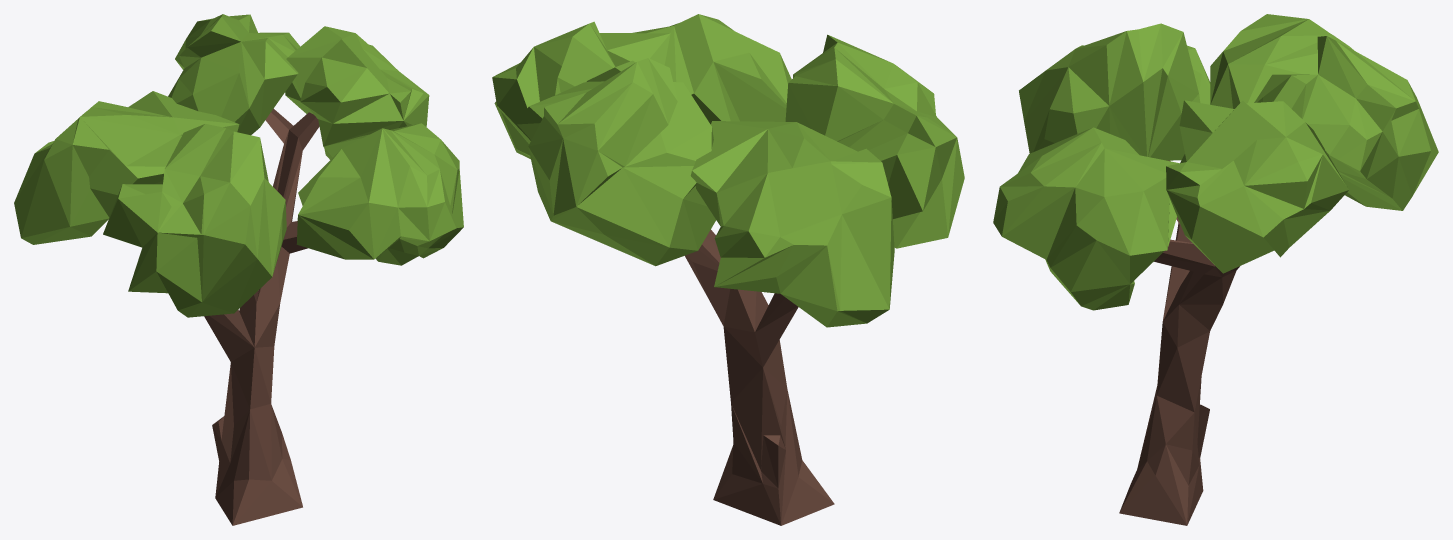
File: modelDraco.gltf
3 renders of one model, left to right at view 1: azimuth 30°, elevation 25°; view 2: azimuth 150°, elevation 25°; view 3: azimuth 270°, elevation 25°, orthographic. The views are drawn at different scales.
Parts seen in each view (by area): view 1: node_MeshObject-1085158208-PolyPaper9; view 2: node_MeshObject-1085158208-PolyPaper9; view 3: node_MeshObject-1085158208-PolyPaper9.
Part boxes in pixels (x1=…): node_MeshObject-1085158208-PolyPaper9: x1=14, y1=14, x2=463, y2=525; node_MeshObject-1085158208-PolyPaper9: x1=492, y1=14, x2=964, y2=525; node_MeshObject-1085158208-PolyPaper9: x1=993, y1=14, x2=1438, y2=525.
Size of the model in its own units: 2.19 by 2.46 by 2.03.
